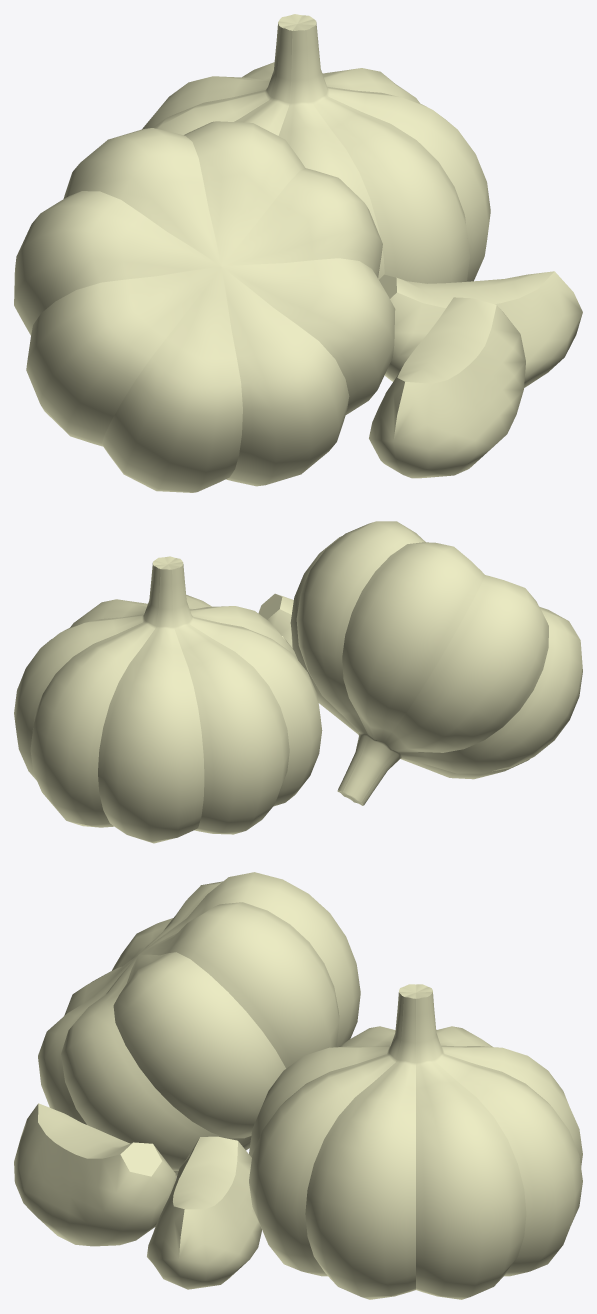
Rendered from garlic.fbx.
3 views of the same model, one above another, from view 1: azimuth 30°, elevation 25°; view 2: azimuth 150°, elevation 25°; view 3: azimuth 270°, elevation 25° (orthographic). The views are drawn at different scales.
Visible parts, largest first — view 1: clove.002; view 2: clove.002; view 3: clove.002.
Part boxes in pixels (box(x1,y1,x2,y2)): clove.002: box(14, 14, 582, 492); clove.002: box(14, 521, 582, 843); clove.002: box(14, 872, 582, 1299).
Bounding box in the file's own units: 44.73 × 24.42 × 45.74.
